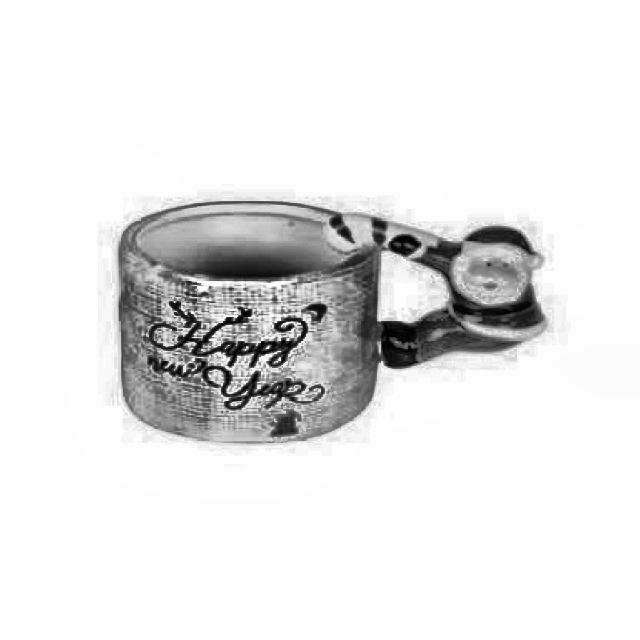Mug: (116, 200, 550, 449)
